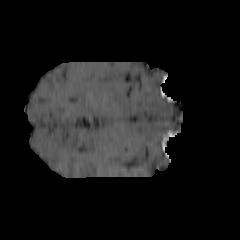glioma: (77, 75, 134, 129)
